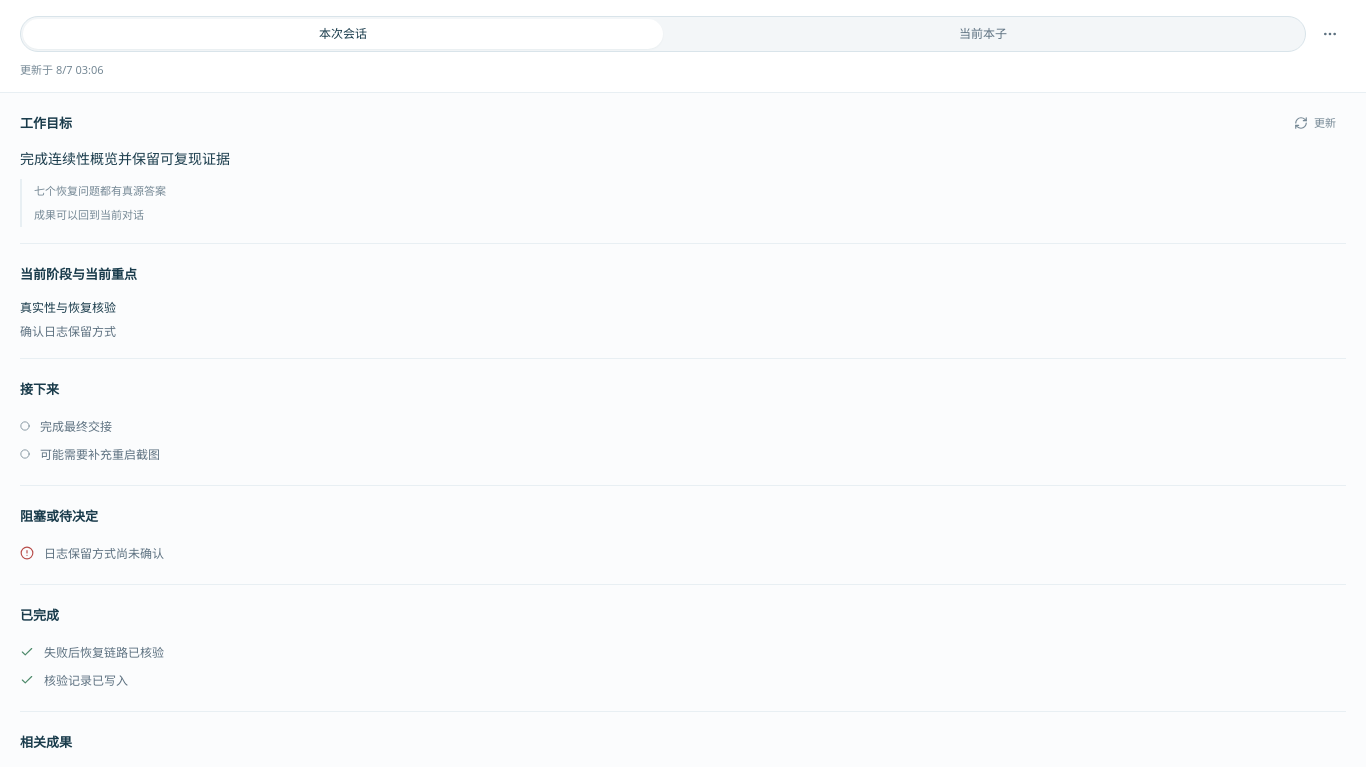
Test: WorkbenchOverview › shows refresh errors as the same quiet status line rather than a card
Click the button named "概览操作" at {"x": 1330, "y": 34}, box [1314,18,1346,50]
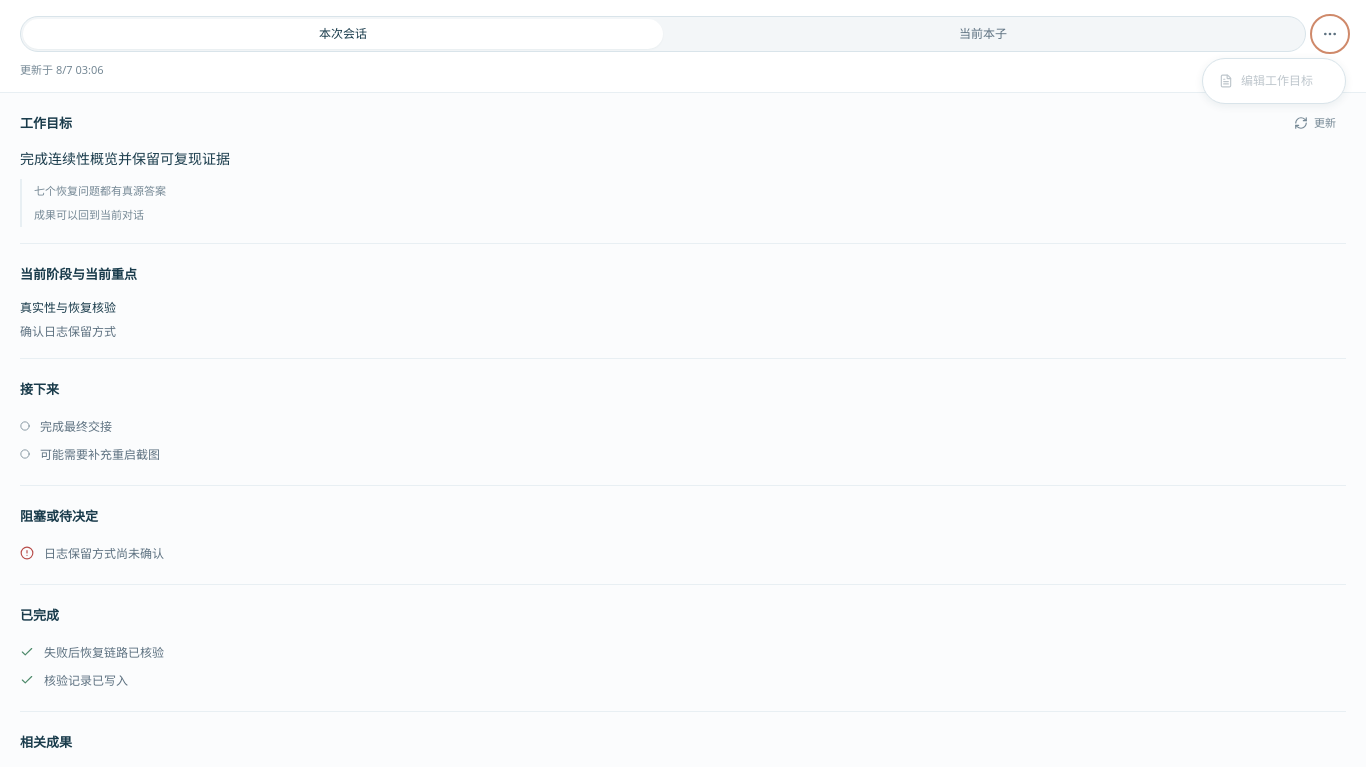
Click the button with aria-label "更新概览" at {"x": 1315, "y": 123}, box [1284,109,1346,137]
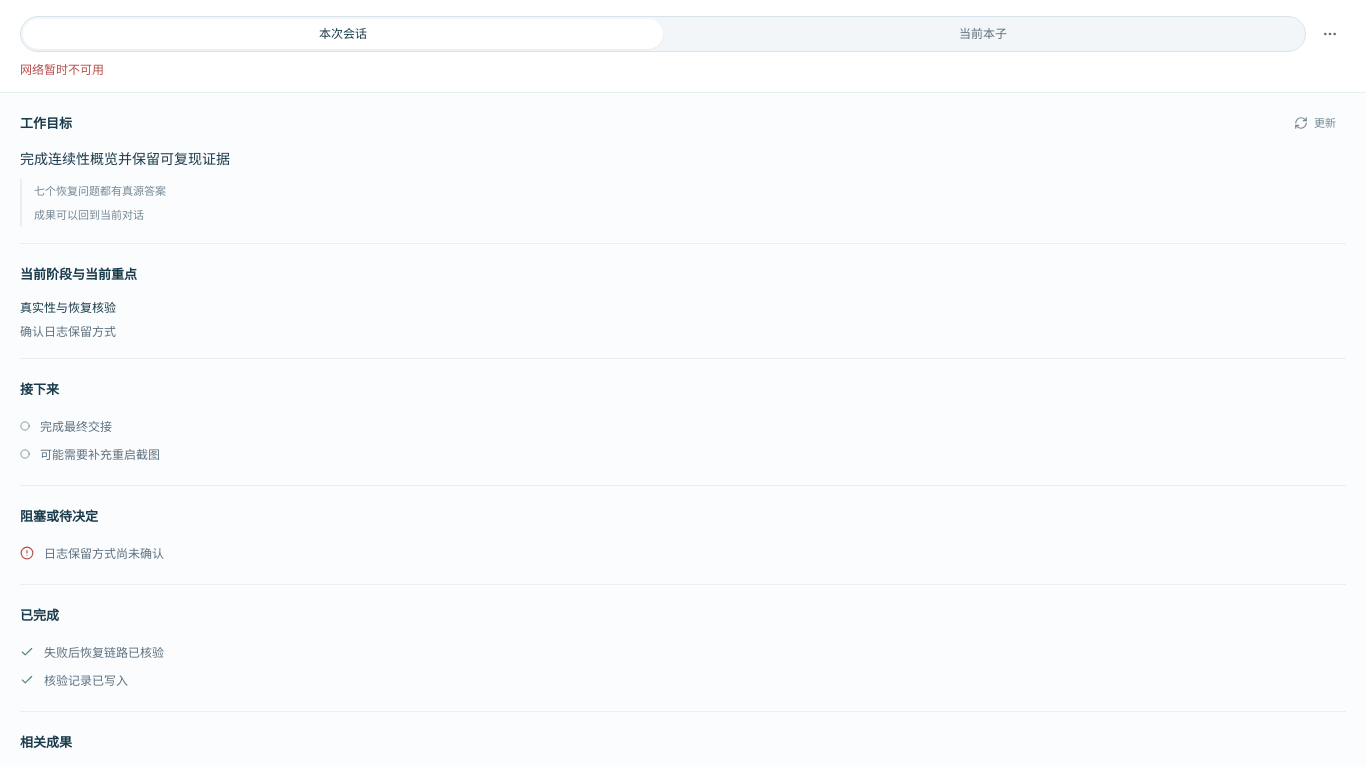
Result: the message reads "网络暂时不可用" at [20,61,104,78]
